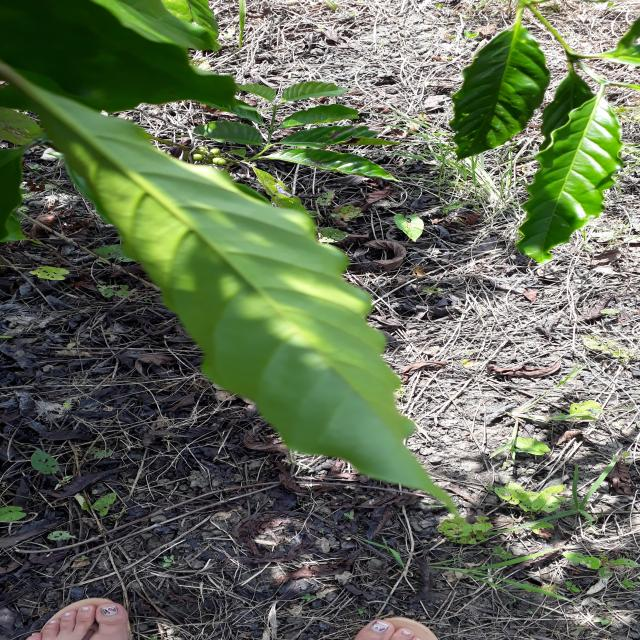Sanas: (8, 64, 458, 513)
